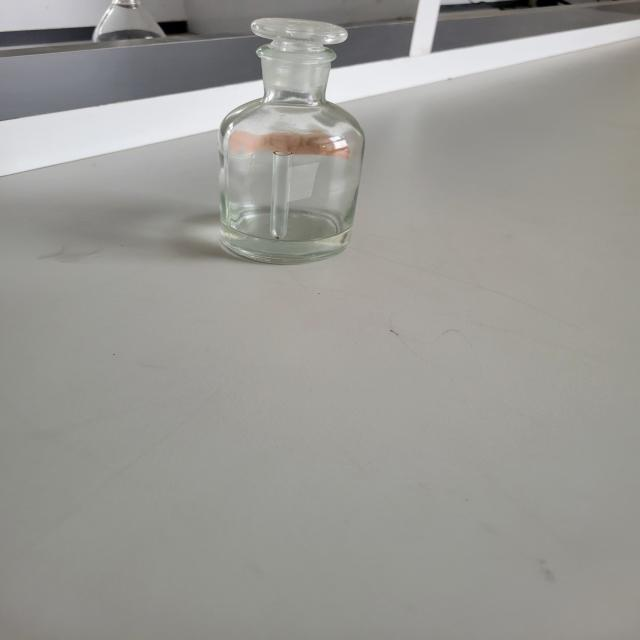Reagent_Bottle: (157, 0, 387, 278)
